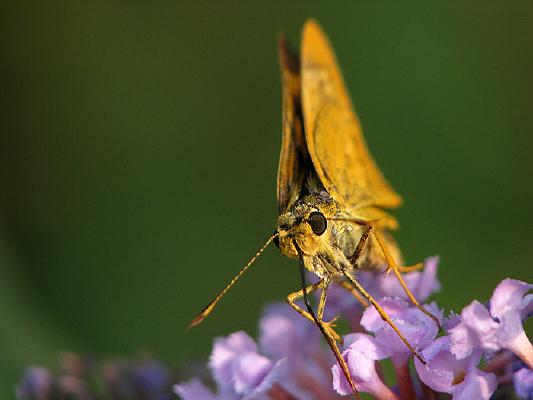Hesperiidae: (186, 15, 437, 393)
